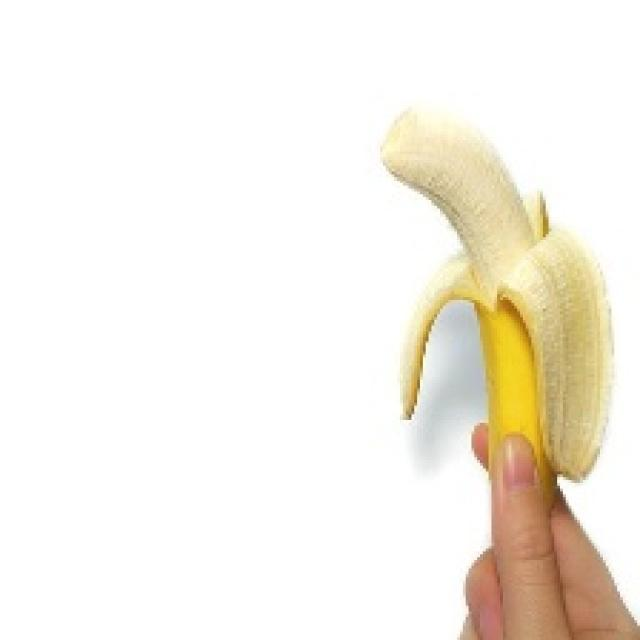Banana: (377, 100, 614, 514)
